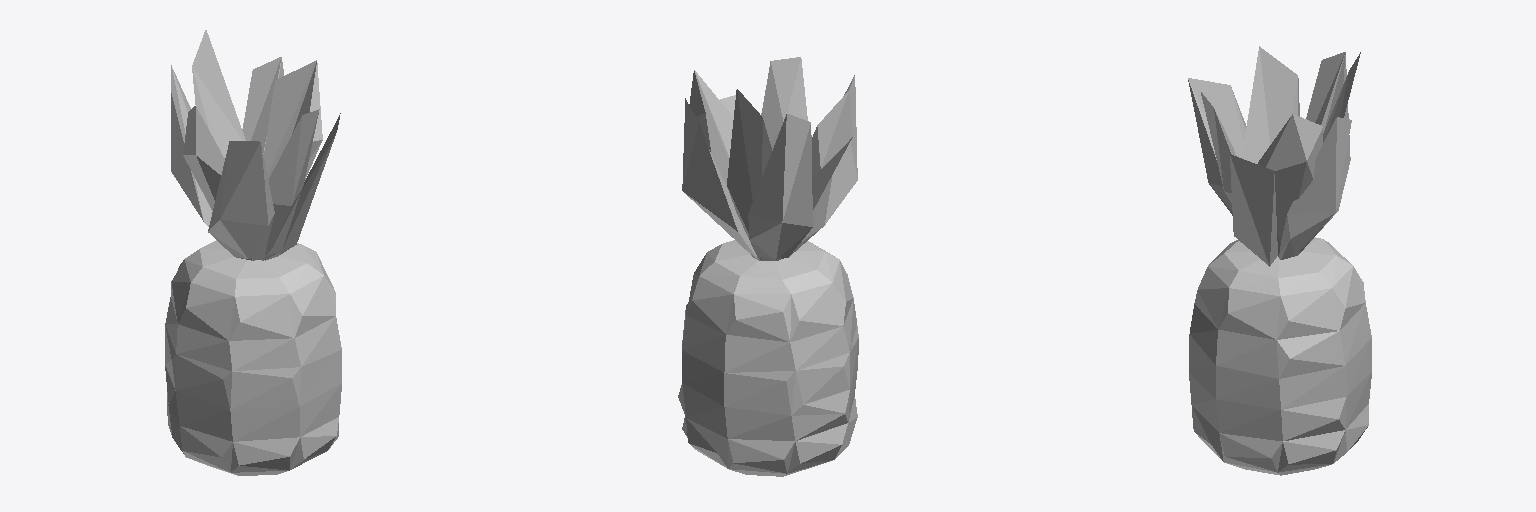
Rendered from SimplePineapple.obj.
The picture shows the model from 3 angles: view 1: azimuth 30°, elevation 25°; view 2: azimuth 150°, elevation 25°; view 3: azimuth 270°, elevation 25°; orthographic projection.
Visible parts, largest first — view 1: pineapple_Circle.004; view 2: pineapple_Circle.004; view 3: pineapple_Circle.004.
Part boxes in pixels (x1,y1,x2,y2): pineapple_Circle.004: (165,30,341,475); pineapple_Circle.004: (678,57,858,476); pineapple_Circle.004: (1188,46,1371,475).
Bounding box in the file's own units: 6.1 × 14.19 × 5.93.